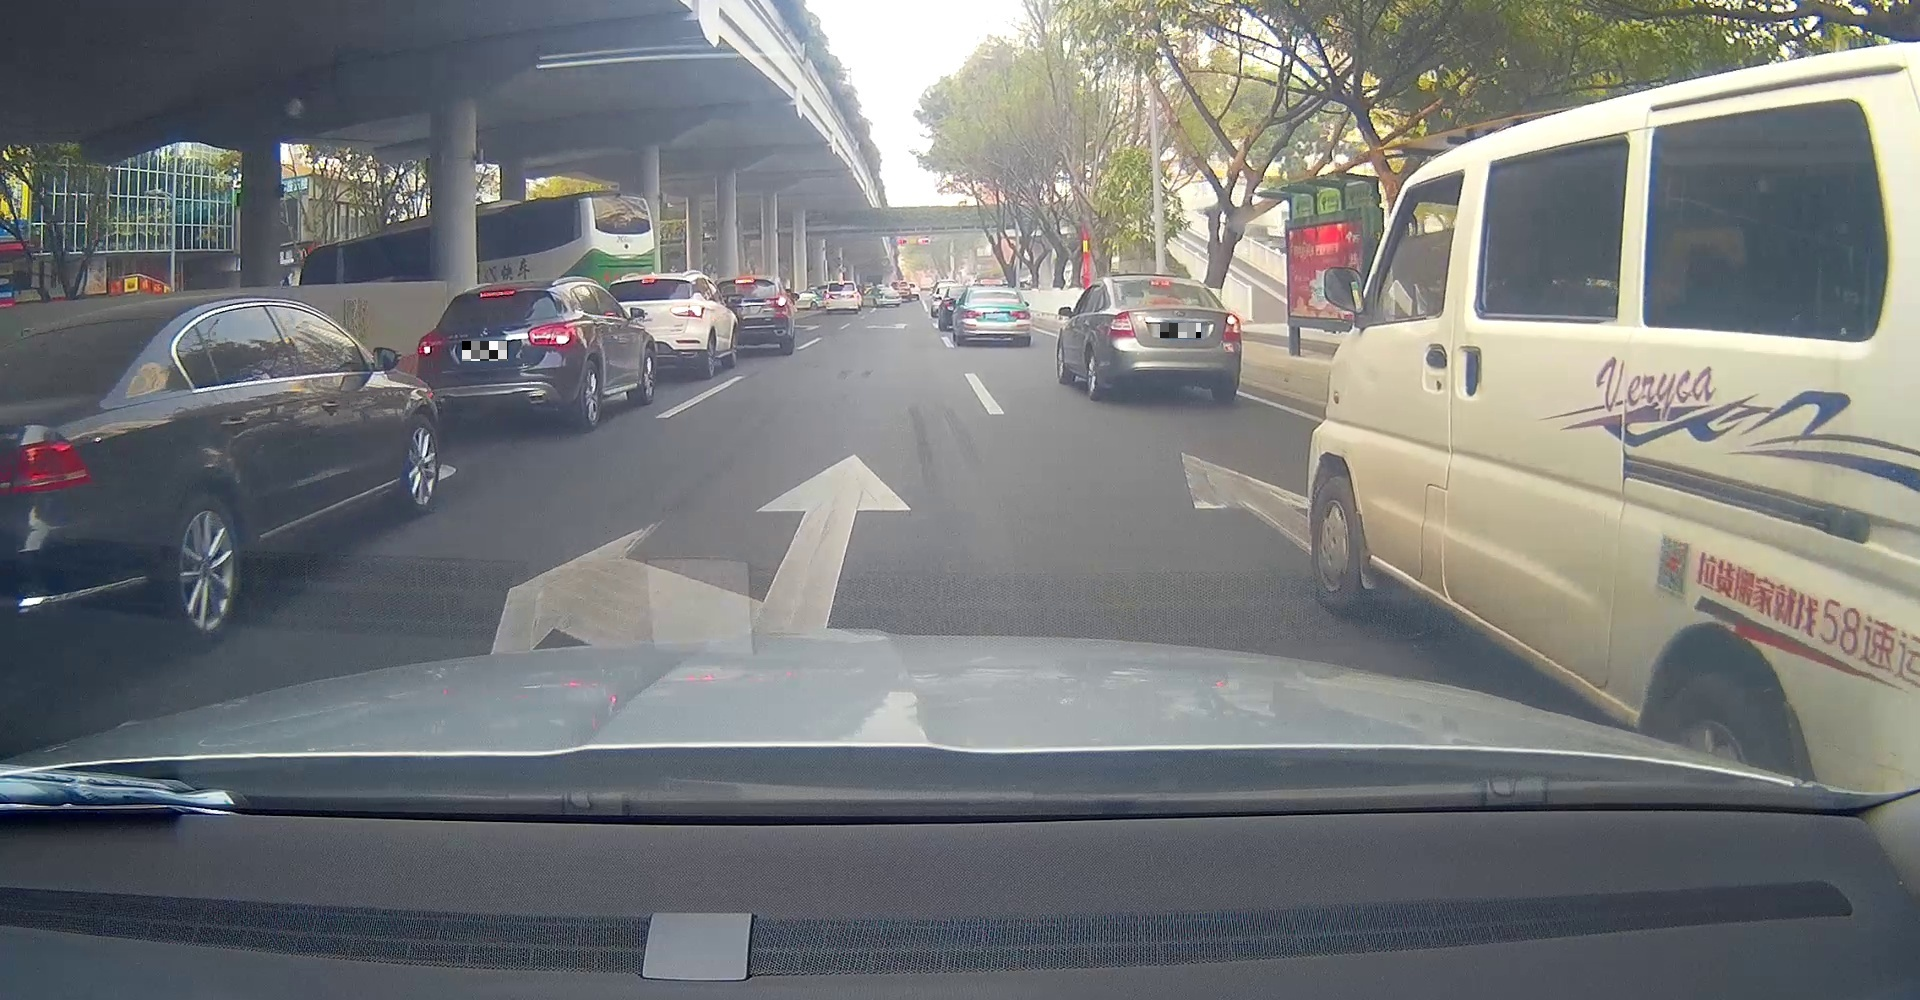L_light: (1107, 311, 1135, 338), (417, 334, 444, 357), (963, 308, 983, 319)
R_light: (527, 322, 574, 346), (1222, 313, 1239, 341), (1010, 310, 1030, 320)
T_light: (477, 291, 516, 297), (1150, 278, 1170, 286), (988, 291, 1002, 294)
day-brake: (414, 282, 587, 433), (1106, 275, 1242, 397)
day-no: (959, 287, 1031, 346)
plate_1: (462, 341, 508, 360)
plate_2: (1161, 324, 1201, 338)
